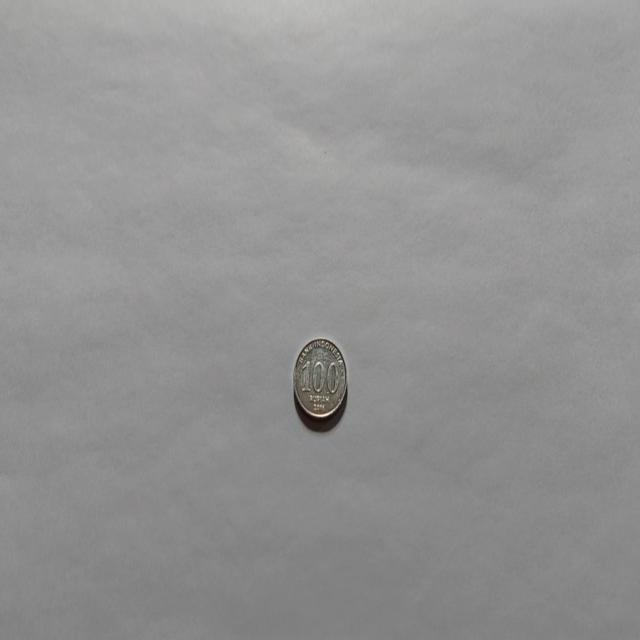seratus rupiah: (292, 335, 348, 424)
